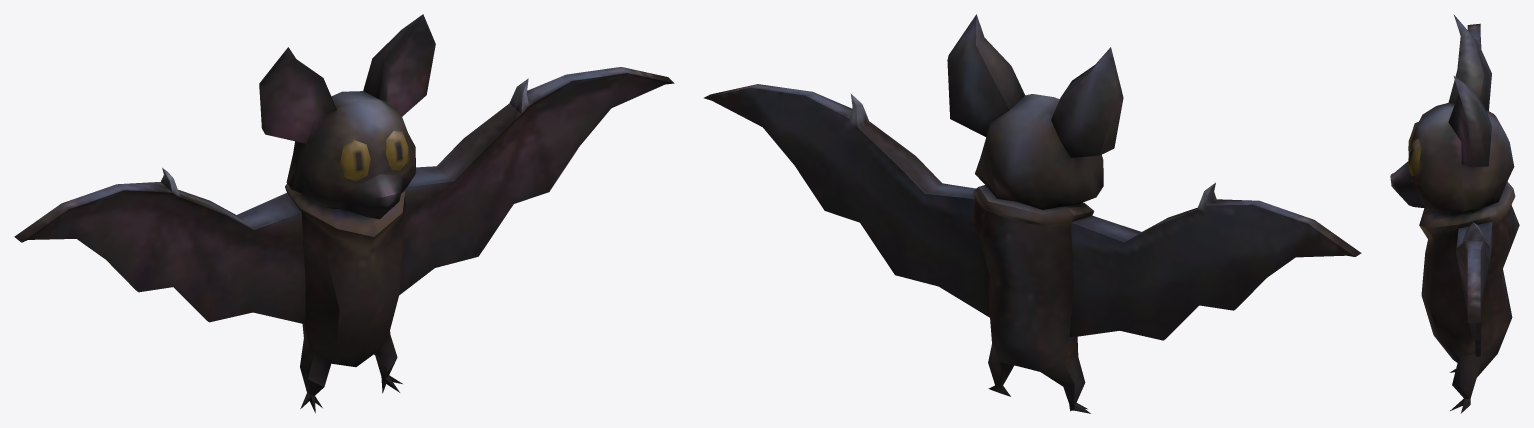
Rendered from bat.glb.
3 renders of one model, left to right at view 1: azimuth 30°, elevation 25°; view 2: azimuth 150°, elevation 25°; view 3: azimuth 270°, elevation 25°, orthographic. The views are drawn at different scales.
Parts seen in each view (by area): view 1: Bat; view 2: Bat; view 3: Bat.
Boxes of the visible parts, box(x1,y1,x2,y2) form: Bat: box(14, 14, 674, 413); Bat: box(704, 14, 1361, 413); Bat: box(1390, 14, 1519, 413).
Bounding box in the file's own units: 0.1713 × 0.0934 × 0.0314.
Materials: 1 (1 with a texture image).
